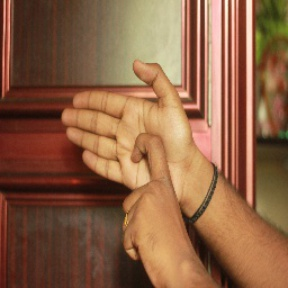R: (55, 57, 186, 223)
